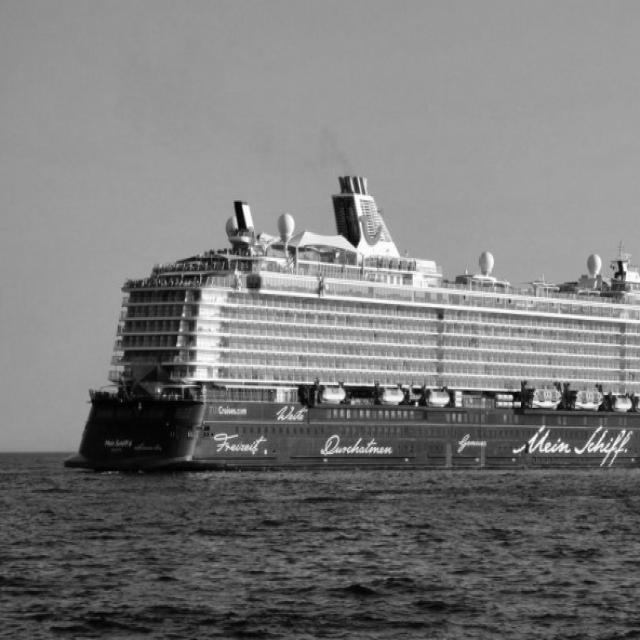cruises: (56, 163, 640, 486)
